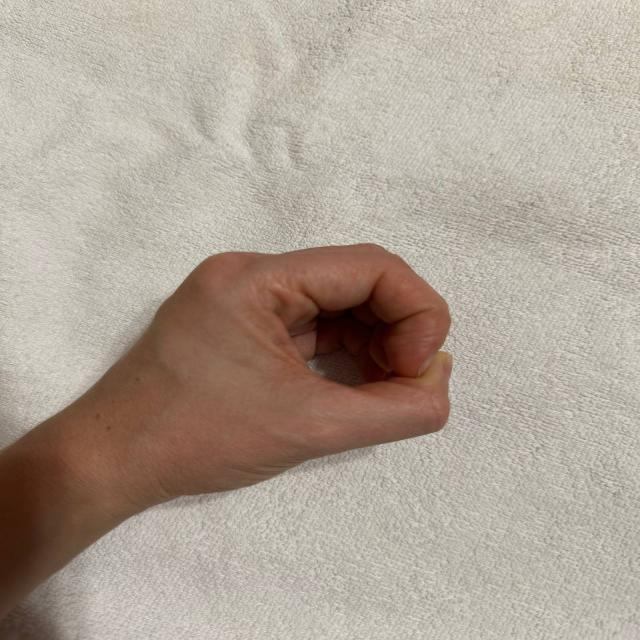e: (122, 226, 504, 506)
